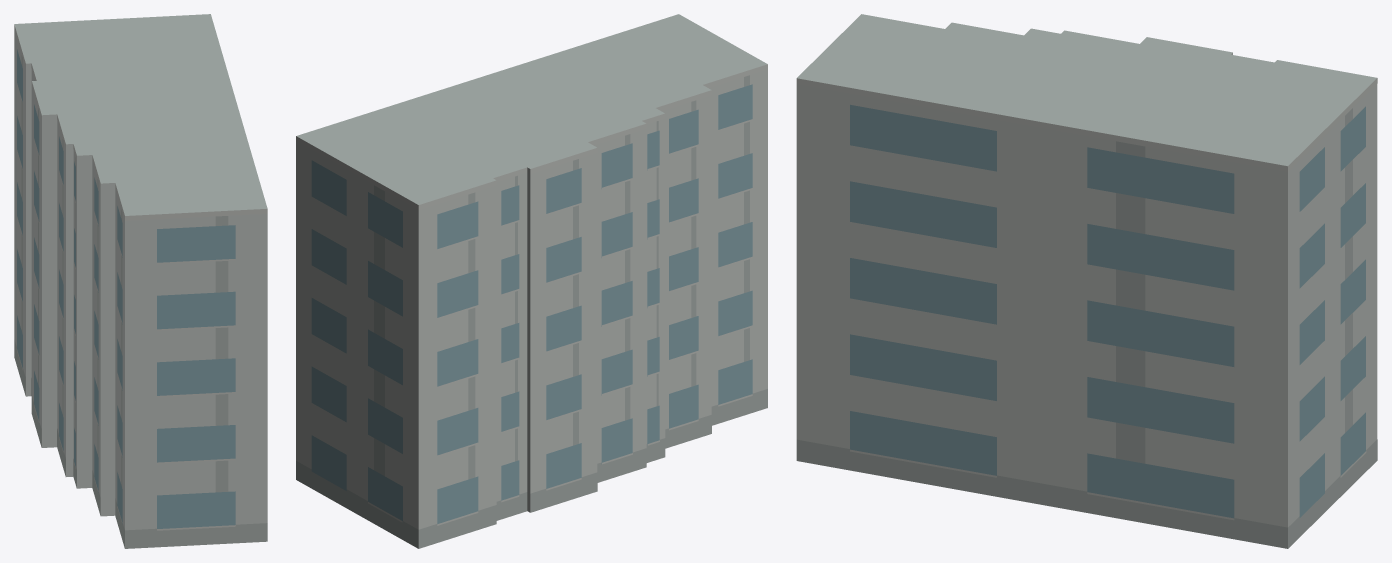
File: survey-upis-32802321.glb
3 renders of one model, left to right at view 1: azimuth 30°, elevation 25°; view 2: azimuth 150°, elevation 25°; view 3: azimuth 270°, elevation 25°, orthographic. The views are drawn at different scales.
Visible parts, largest first — view 1: survey-upis-32802321.tmp; view 2: survey-upis-32802321.tmp; view 3: survey-upis-32802321.tmp.
Boxes of the visible parts, box(x1,y1,x2,y2) form: survey-upis-32802321.tmp: box(14, 14, 267, 548); survey-upis-32802321.tmp: box(296, 14, 767, 548); survey-upis-32802321.tmp: box(796, 14, 1377, 548).
Bounding box in the file's own units: 13.66 × 16 × 22.02.
